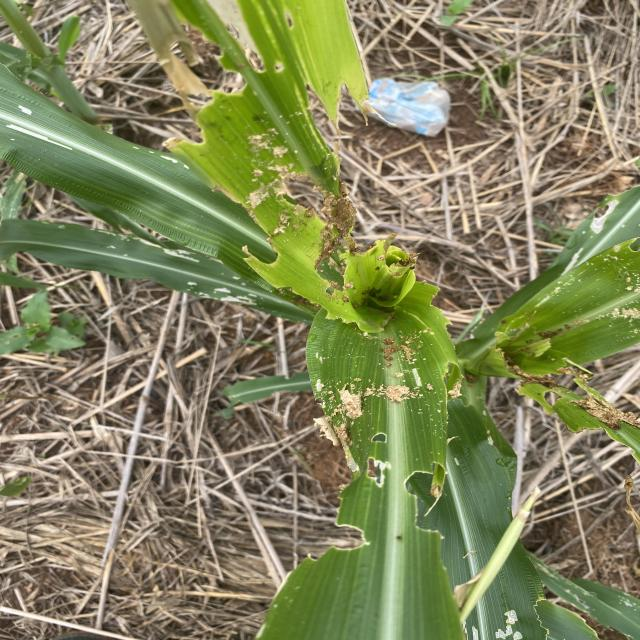fall-armyworm-egg: (326, 383, 413, 422), (422, 375, 466, 400), (606, 298, 640, 326), (332, 422, 358, 445)
fall-armyworm-frass: (300, 182, 356, 268), (237, 130, 292, 204), (499, 350, 565, 390), (569, 393, 640, 428), (376, 336, 426, 369), (536, 321, 577, 343), (270, 209, 294, 235)
fall-armyworm-larval-damage: (111, 0, 309, 156), (252, 496, 372, 640), (394, 458, 484, 640), (270, 0, 382, 139), (206, 184, 285, 280), (560, 172, 640, 240), (491, 596, 555, 640), (366, 428, 404, 487), (568, 608, 606, 640), (615, 225, 640, 272)
